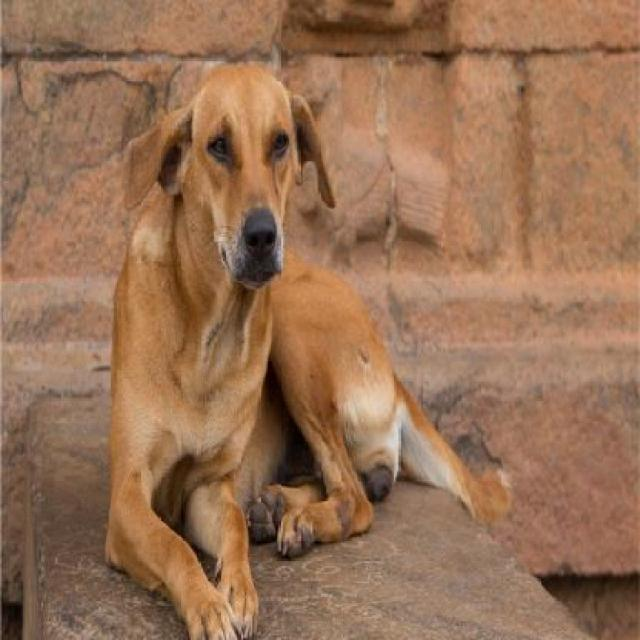dog: (125, 70, 433, 541)
